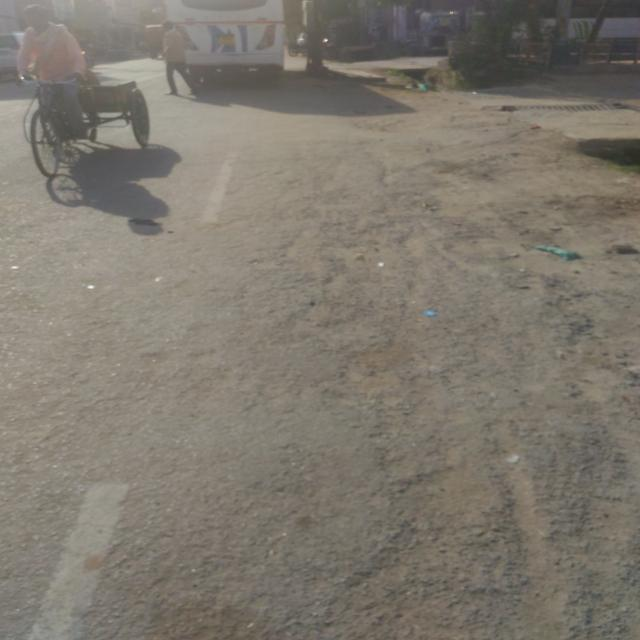bus_back: (160, 0, 294, 85)
